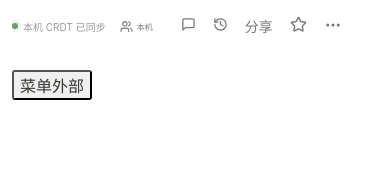
Test case: editor page actions › dismisses page menus with Escape and an outside pointer press
This screenshot has width=372, height=175.
Click the button named "更多页面操作" at (333, 26), box 317,12 -> 349,40
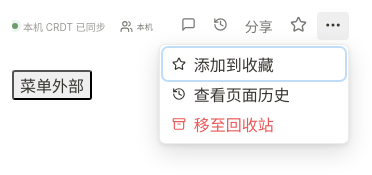
Press Escape
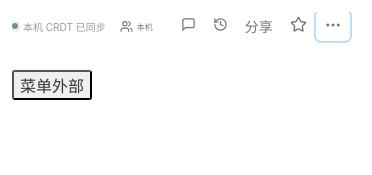
Check: the menu "添加到收藏 查看页面历史 移至回收站" is gone
